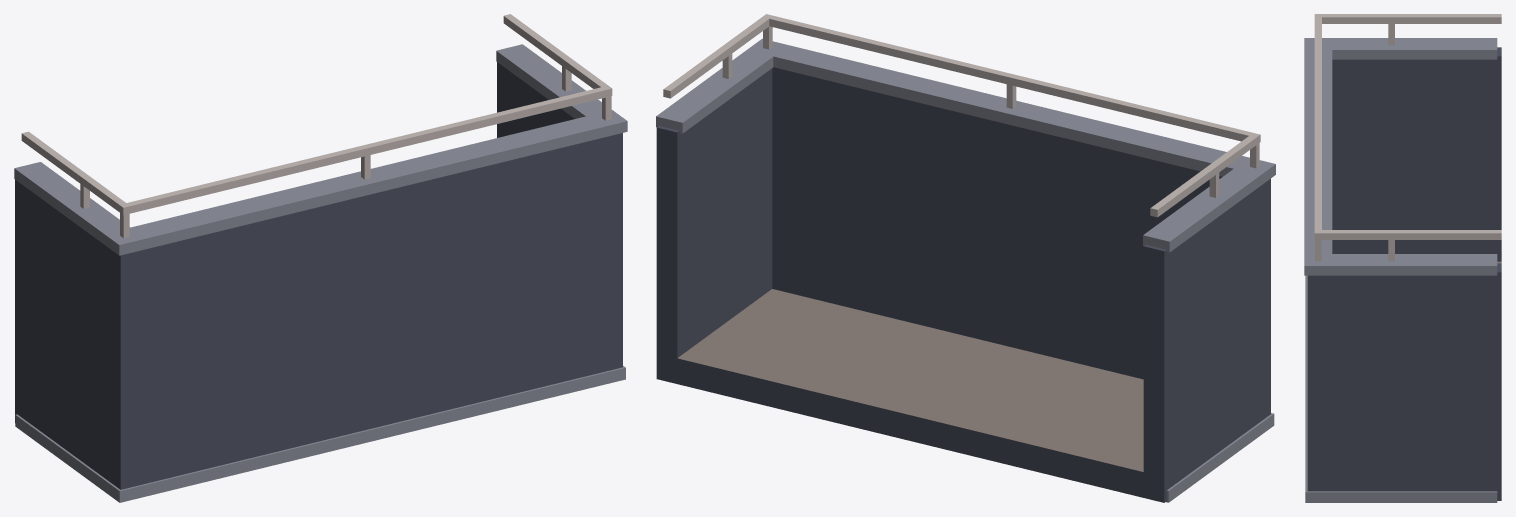
The model's file is SM_Fixture_BalconyShort16520_Charcoal_01.gltf.
3 renders of one model, left to right at view 1: azimuth 30°, elevation 25°; view 2: azimuth 150°, elevation 25°; view 3: azimuth 270°, elevation 25°, orthographic. The views are drawn at different scales.
Visible parts, largest first — view 1: SM_Fixture_BalconyShort16520_Charcoal_01; view 2: SM_Fixture_BalconyShort16520_Charcoal_01; view 3: SM_Fixture_BalconyShort16520_Charcoal_01.
Part boxes in pixels (x1=…): SM_Fixture_BalconyShort16520_Charcoal_01: x1=14, y1=14, x2=627, y2=502; SM_Fixture_BalconyShort16520_Charcoal_01: x1=656, y1=14, x2=1275, y2=502; SM_Fixture_BalconyShort16520_Charcoal_01: x1=1304, y1=14, x2=1501, y2=502.
Bounding box in the file's own units: 2.5 × 1.36 × 0.915.
Materials: 1 (1 with a texture image).
